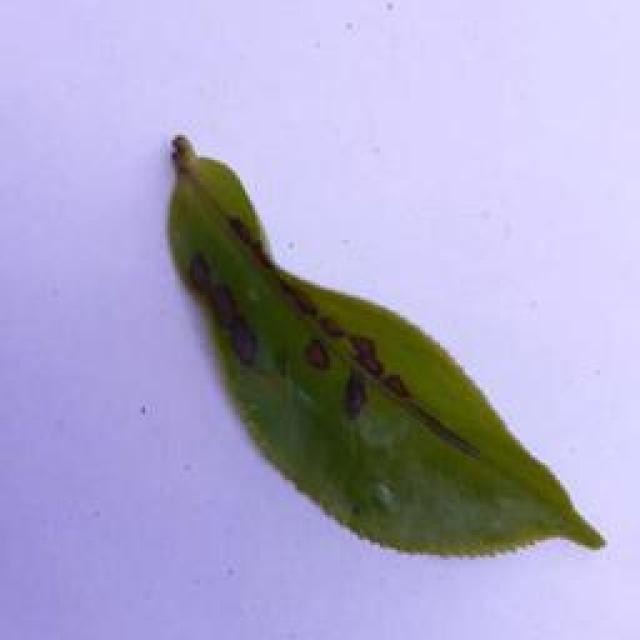Helopeltis: (154, 120, 604, 568)
